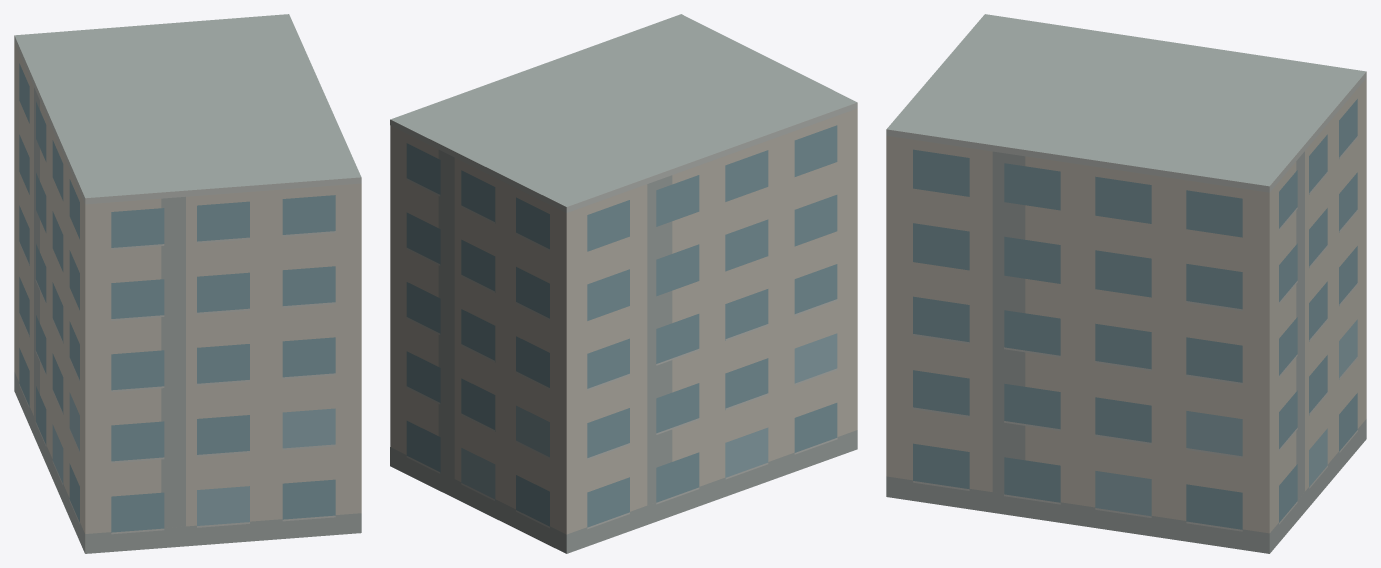
The model's file is survey-upis-32886807.glb.
The picture shows the model from 3 angles, left to right: view 1: azimuth 30°, elevation 25°; view 2: azimuth 150°, elevation 25°; view 3: azimuth 270°, elevation 25°; orthographic projection. The views are drawn at different scales.
Parts seen in each view (by area): view 1: survey-upis-32886807.tmp; view 2: survey-upis-32886807.tmp; view 3: survey-upis-32886807.tmp.
Part boxes in pixels (<box>): survey-upis-32886807.tmp: <box>14,14,361,553</box>; survey-upis-32886807.tmp: <box>390,14,857,553</box>; survey-upis-32886807.tmp: <box>886,14,1366,553</box>.
Size of the model in its own units: 14.19 by 14.1 by 16.71.
